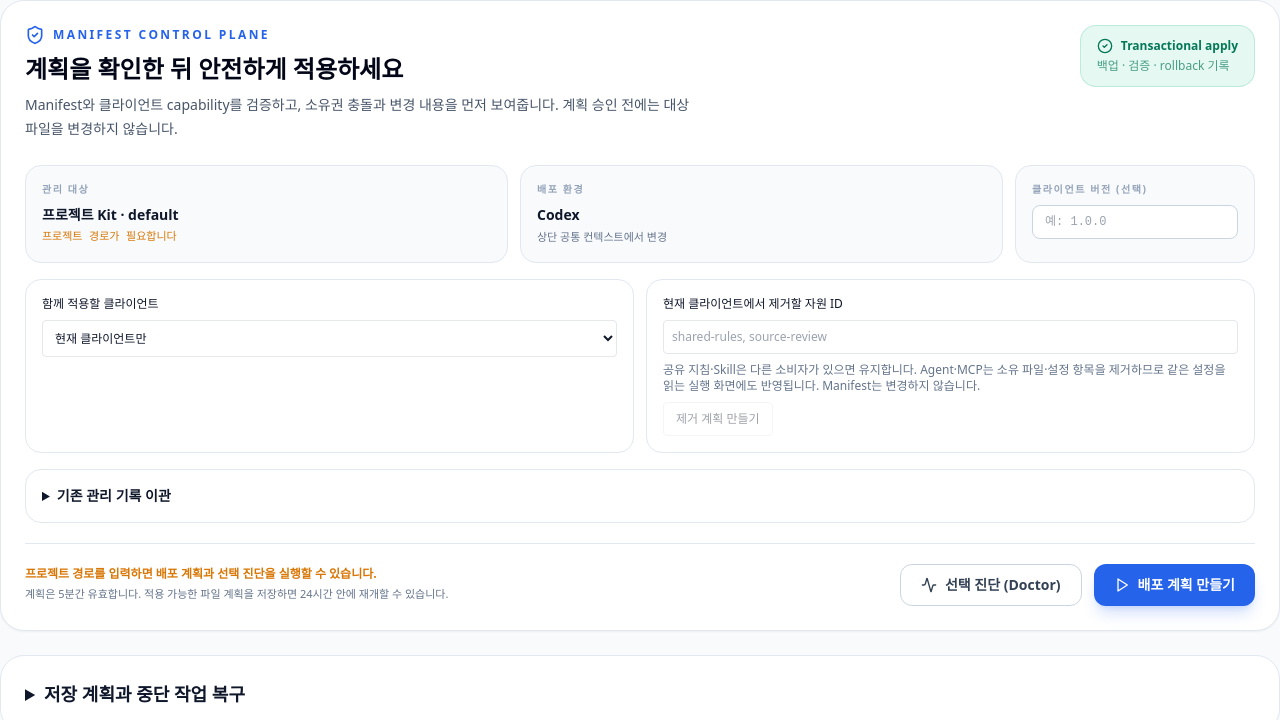
Test case: ManifestDeploymentPanel readiness › explains the missing project path instead of silently disabling plan creation
The image size is (1280, 720).
Click the button "배포 계획 만들기" at (1174, 584), box [1094, 564, 1255, 606]
(page scrolled)
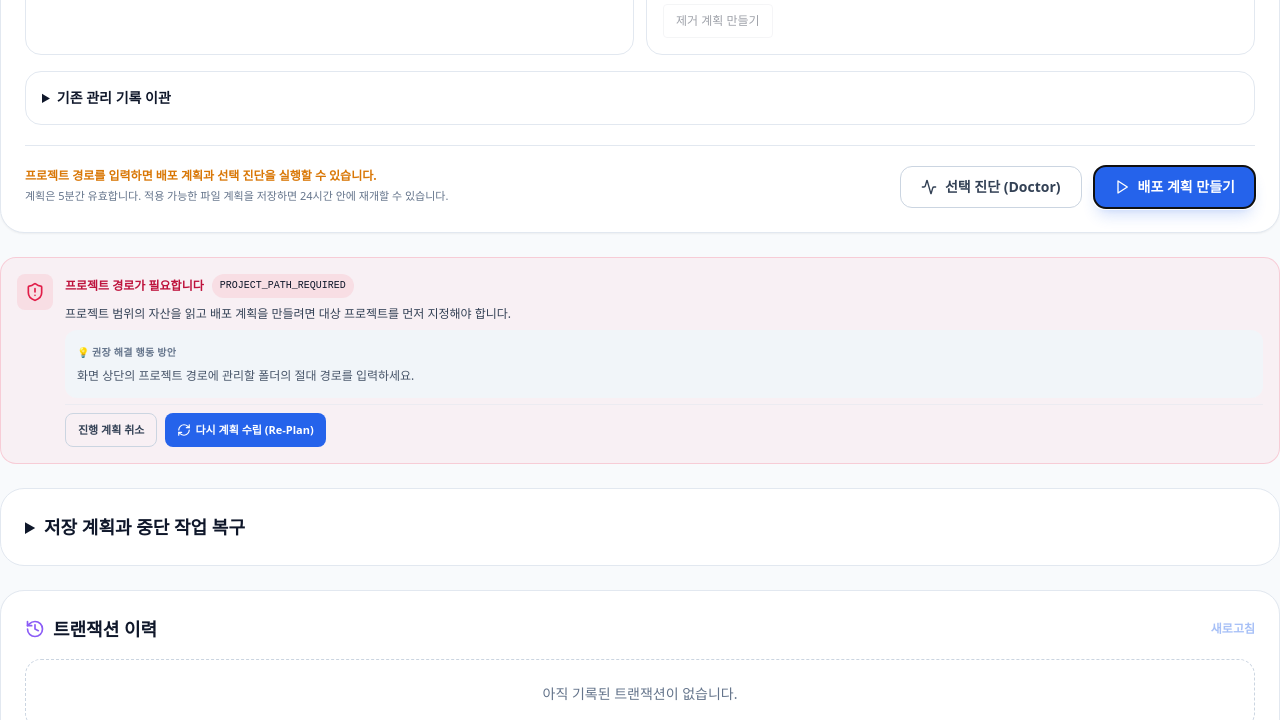
Expected: the message shows "프로젝트 경로", [65, 276, 204, 294]
